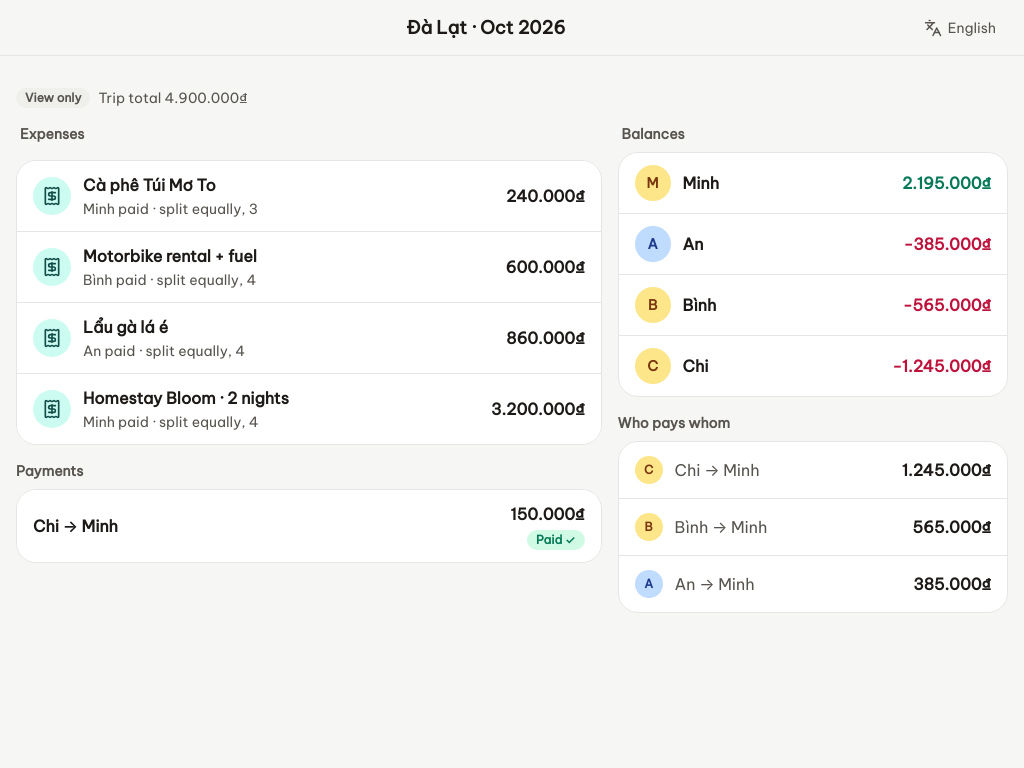
Scenario: view-only page › on a wide screen the right side holds the balances and who pays whom, and an expense replaces them
Expected: the element "Balances" is shown, [614,120,1012,617]
Expected: the element "Who pays whom" is shown, [618,413,1008,613]
Step 1. Click the button "Lẩu gà lá é An paid · split equally, 4 860.000₫" → (52, 338), box [17,303,601,373]
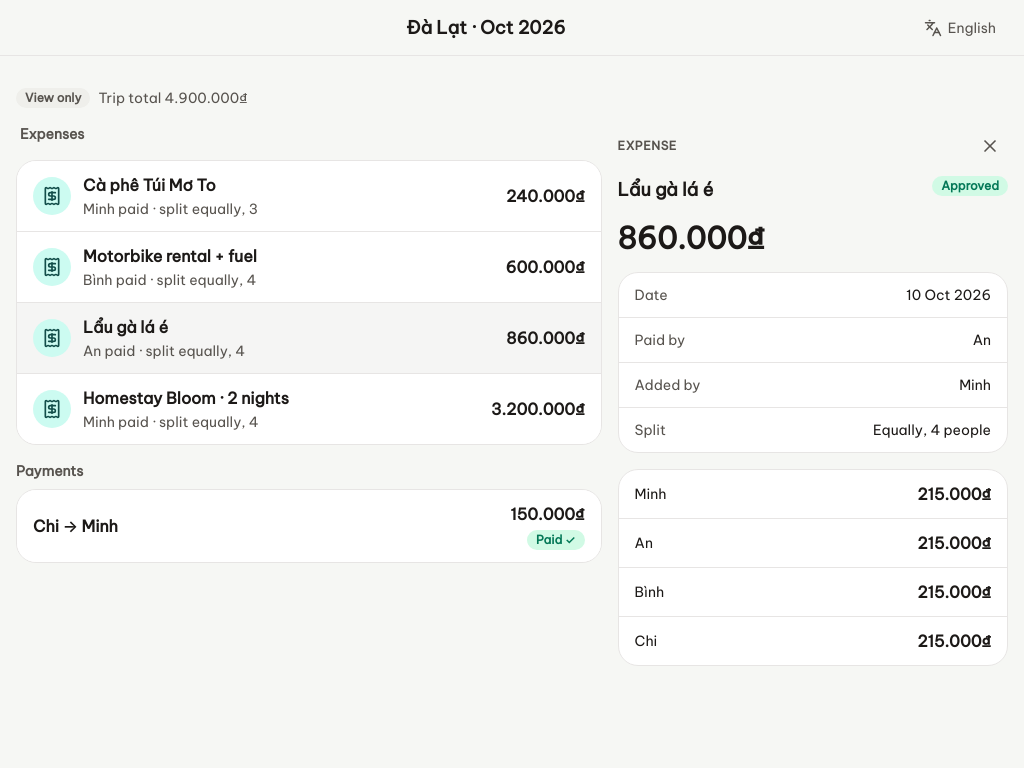
Now the heading "Balances" is gone
Step 2. Press Escape
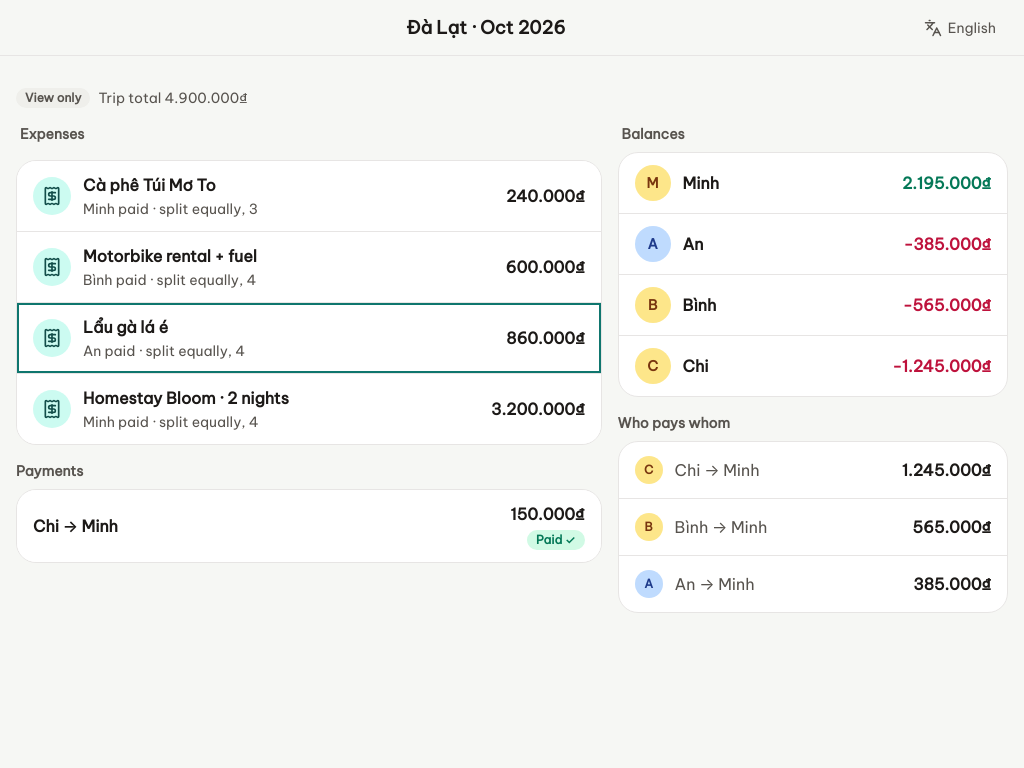
Now the element "Balances" is shown, box [618,124,1008,397]
